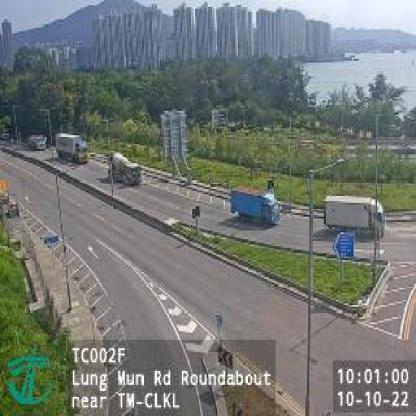Truck: (321, 192, 384, 238), (228, 183, 285, 226), (107, 150, 142, 186), (54, 132, 90, 165)
